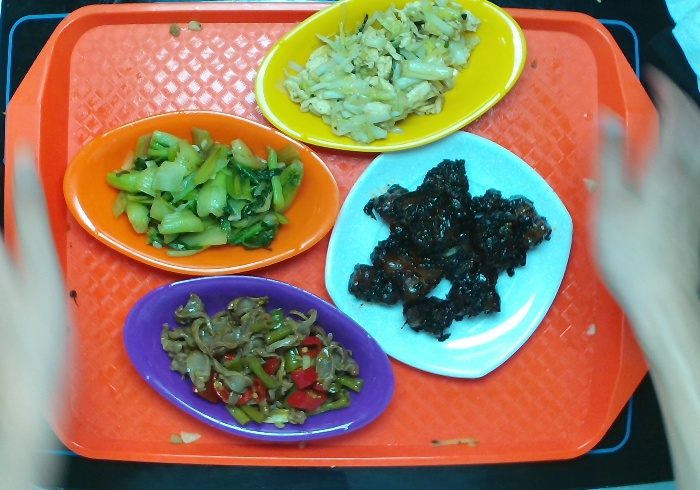RJxy-Fen_Hong_Tuo_Yuan: (124, 273, 397, 442)
RJxy-Huang_Se_Tuo_Yuan: (256, 1, 525, 148)
RJxy-Ju_Huang_Tuo_Yuan: (66, 112, 341, 275)
RJxy-Si_Fang_Die: (323, 120, 579, 375)
